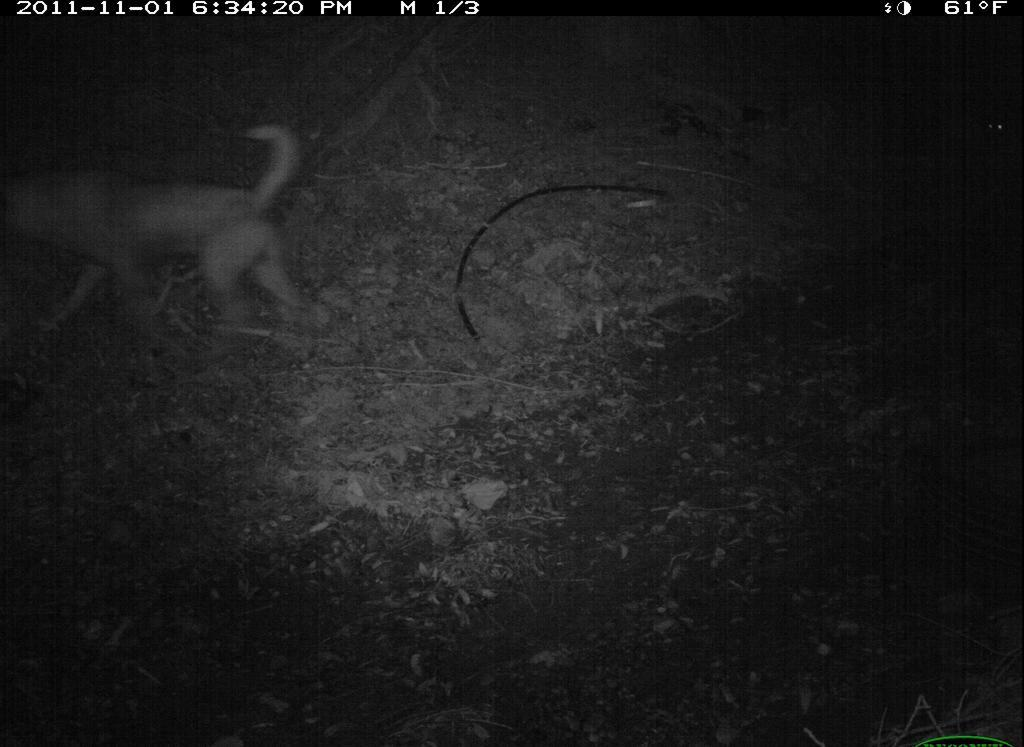dog: (8, 123, 336, 338)
